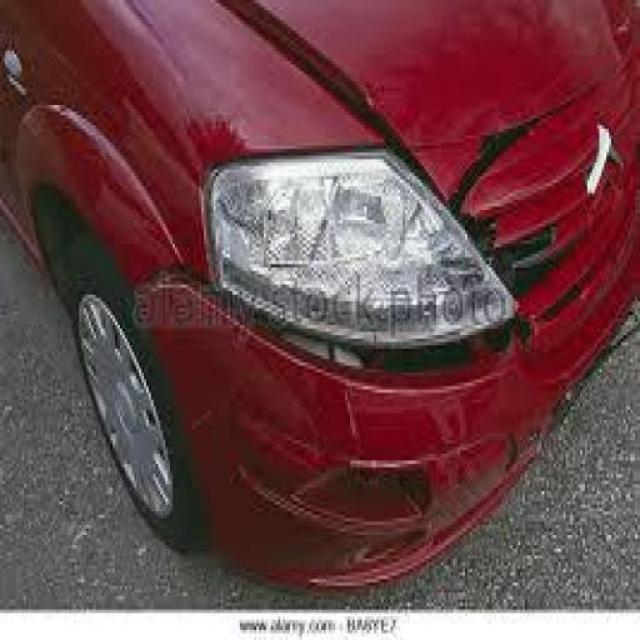crush: (129, 5, 574, 400)
